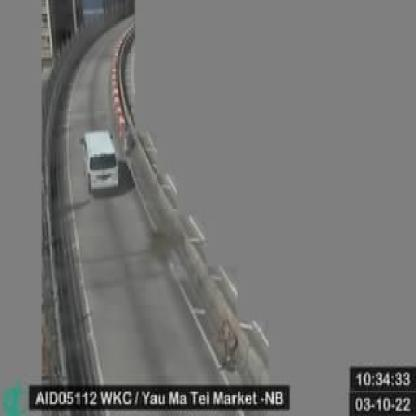Car: (81, 130, 121, 189)
